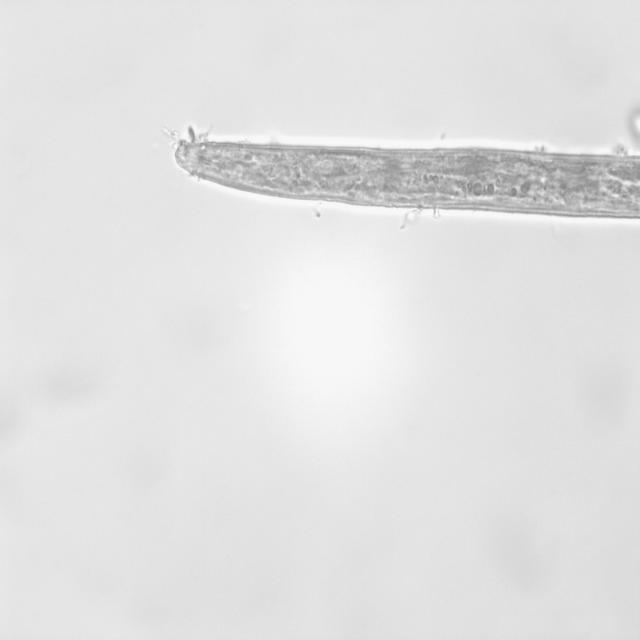Meloidogyne: (163, 134, 640, 240)
